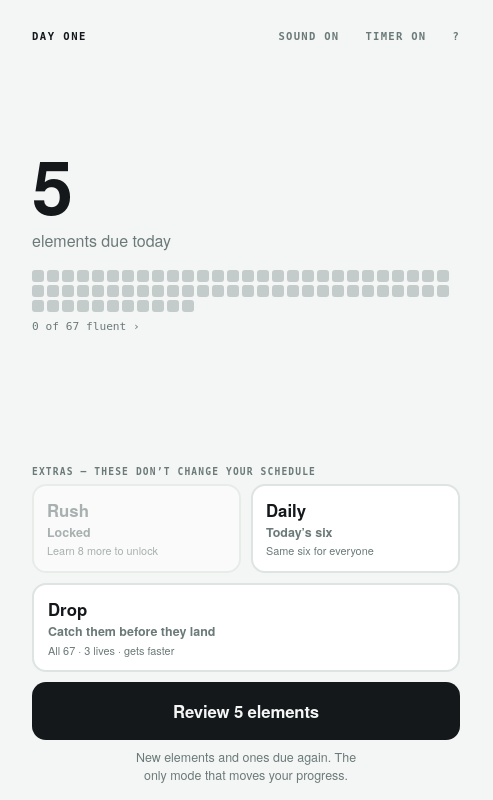
it: the answer reveal after a miss › stops accepting taps while the answer is shown
Click the button "Drop" at (68, 609), box [32, 583, 460, 672]
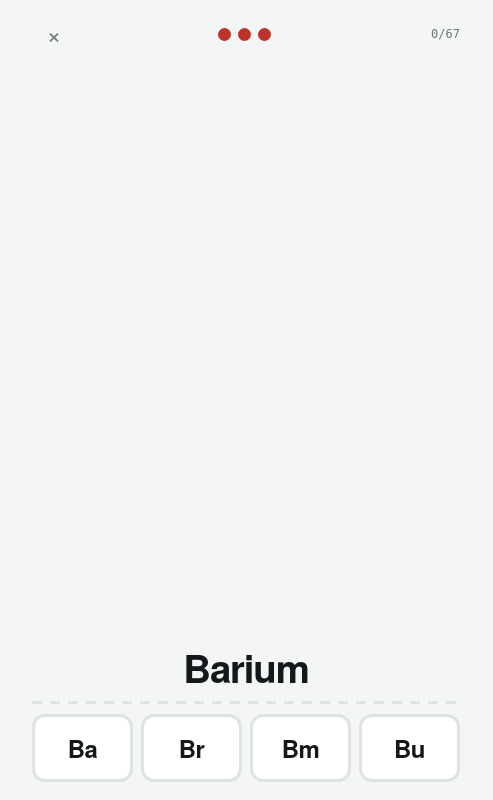
Click the button "Br" at (192, 748), box [141, 714, 242, 782]
Wait 150 ms
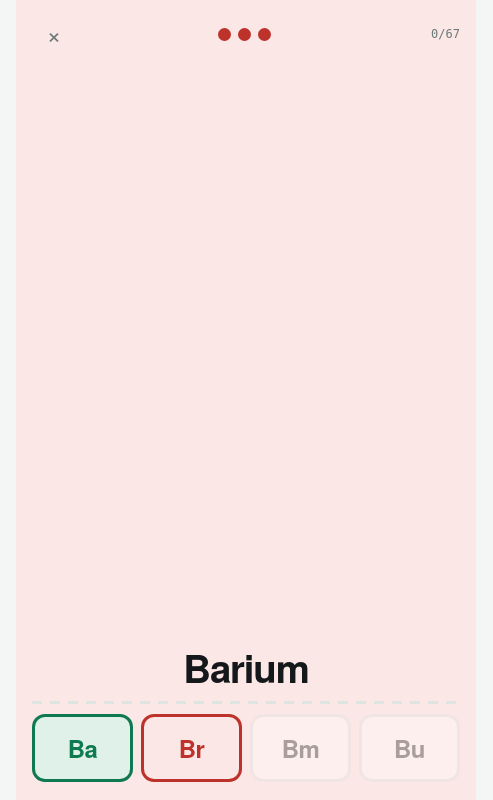
Result: the button "Ba" is disabled
Result: the button "Br" is disabled at [141, 714, 242, 782]
Result: the button "Bm" is disabled at [250, 714, 351, 782]
Click the button "Ba" at (82, 748), box [32, 714, 133, 782]
Wait 1060 ms
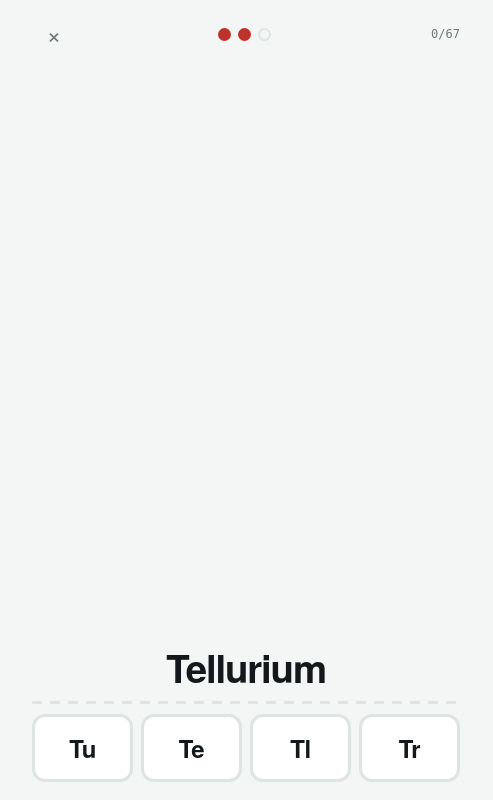
Result: the element named "2 lives left" is shown at [218, 28, 270, 40]
